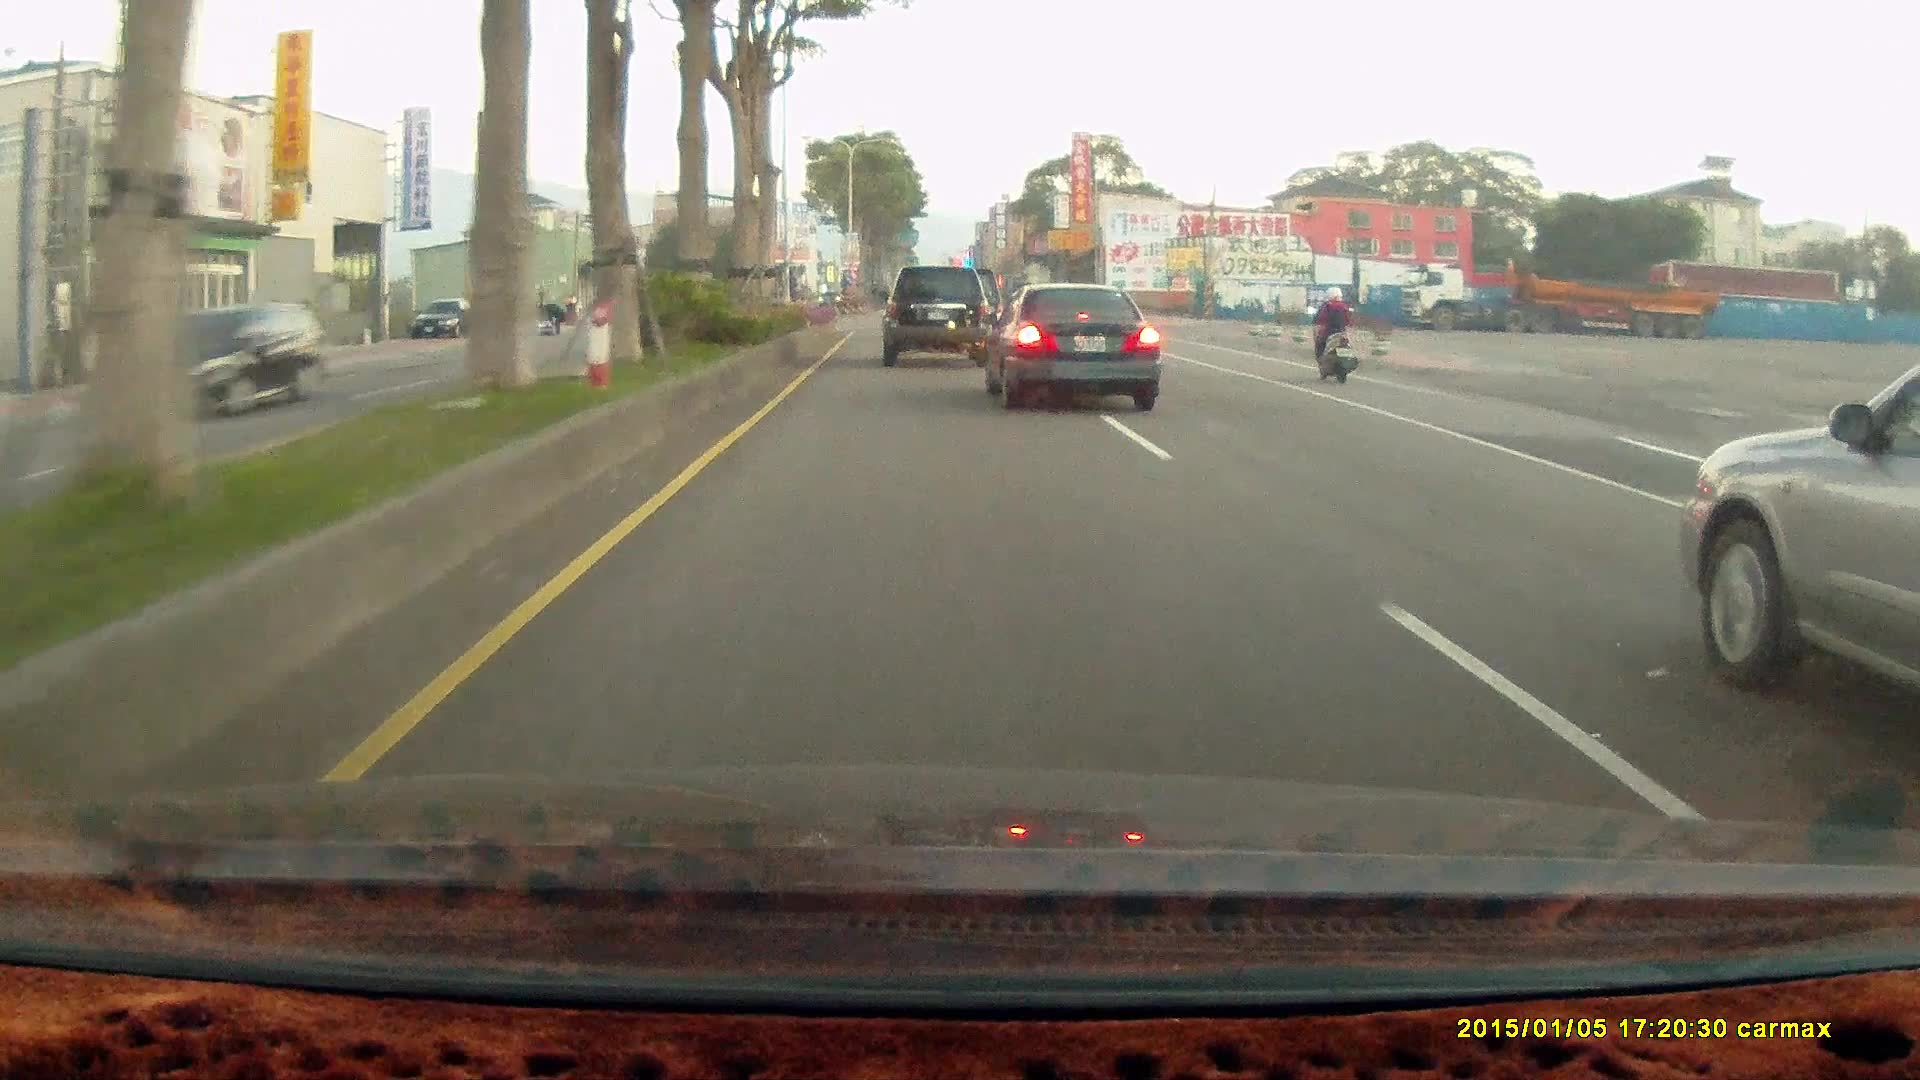pedestrian: (538, 300, 564, 334)
rider: (1300, 278, 1367, 391), (1304, 282, 1358, 382)
vehicle: (1677, 367, 1920, 726), (1396, 263, 1717, 339), (122, 299, 321, 421), (980, 280, 1160, 411), (986, 281, 1161, 403), (880, 262, 1001, 365), (877, 262, 991, 362), (410, 298, 477, 339)
